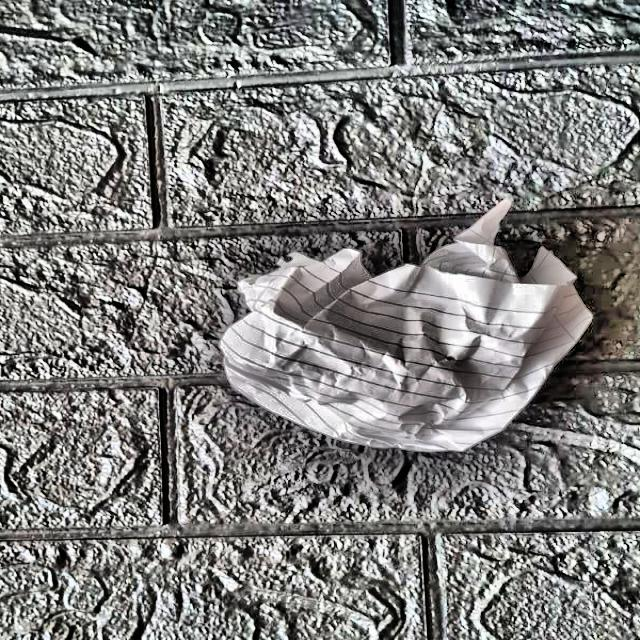paper: (193, 233, 582, 443)
